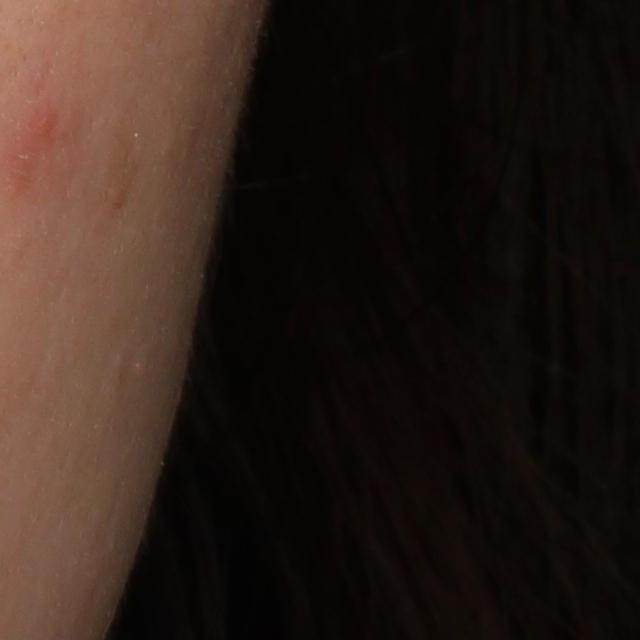papule: (17, 107, 56, 145)
